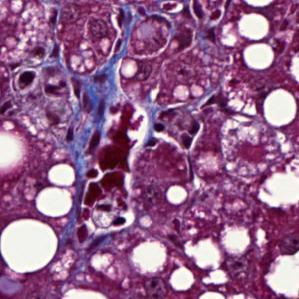inflammation: (175, 119, 208, 154), (12, 66, 40, 95)
